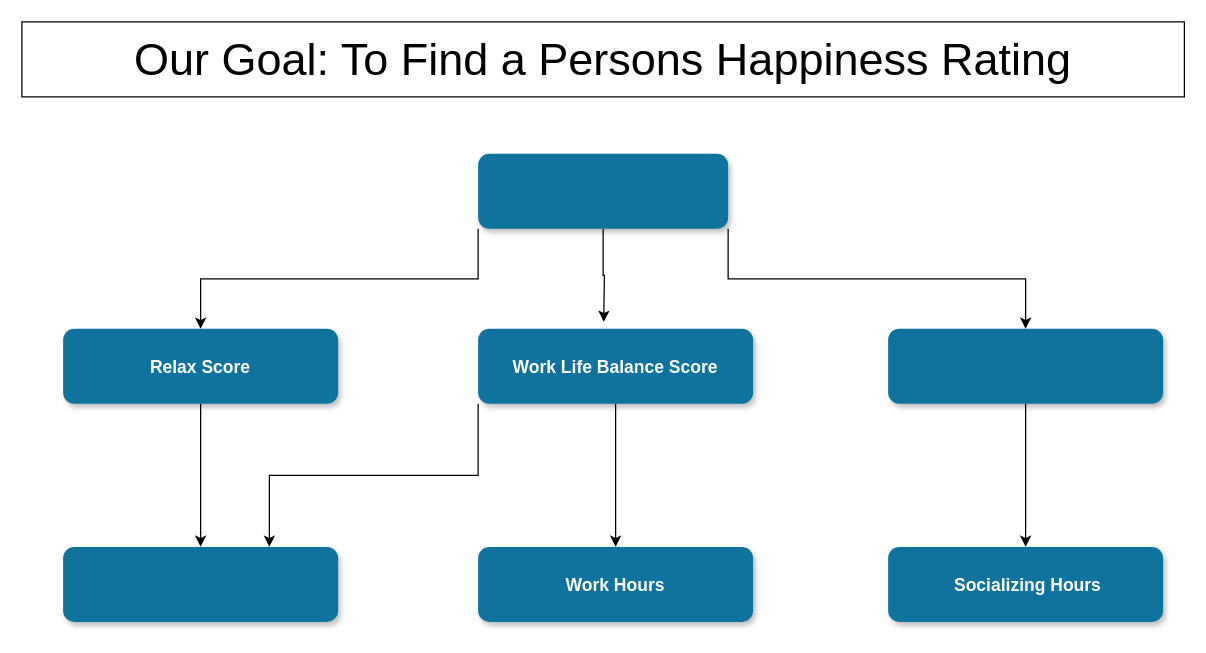
The diagram is 1206 pixels wide and 653 high, and some of its shapes have lost their labels. The shapes that lost their labels are listed below. From the top down, each one's centre as x and y in pixels, then its label:
(603,192): Happiness Rating
(1026,367): Social Score
(201,585): Relax Hours
